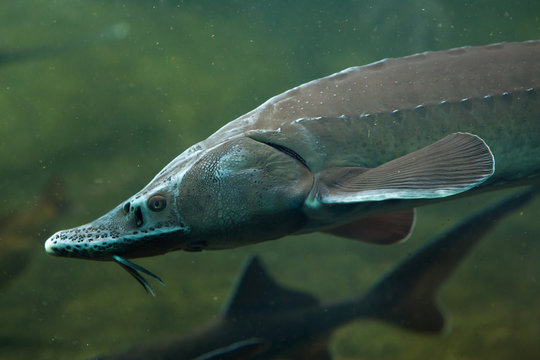Sturgeon: (24, 51, 540, 292)
